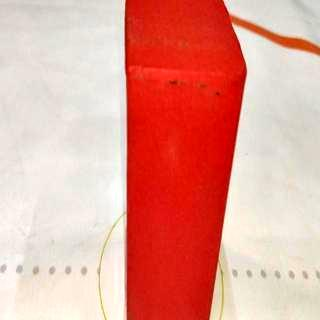redbox: (124, 1, 246, 320)
